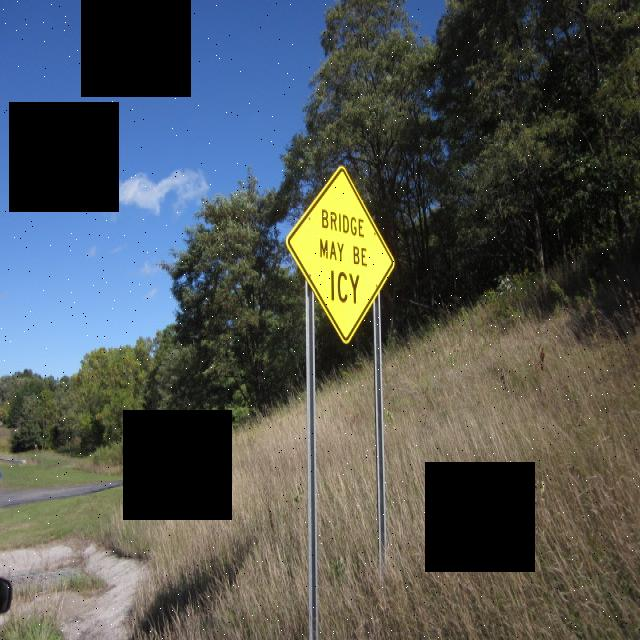warning: (286, 165, 401, 344)
